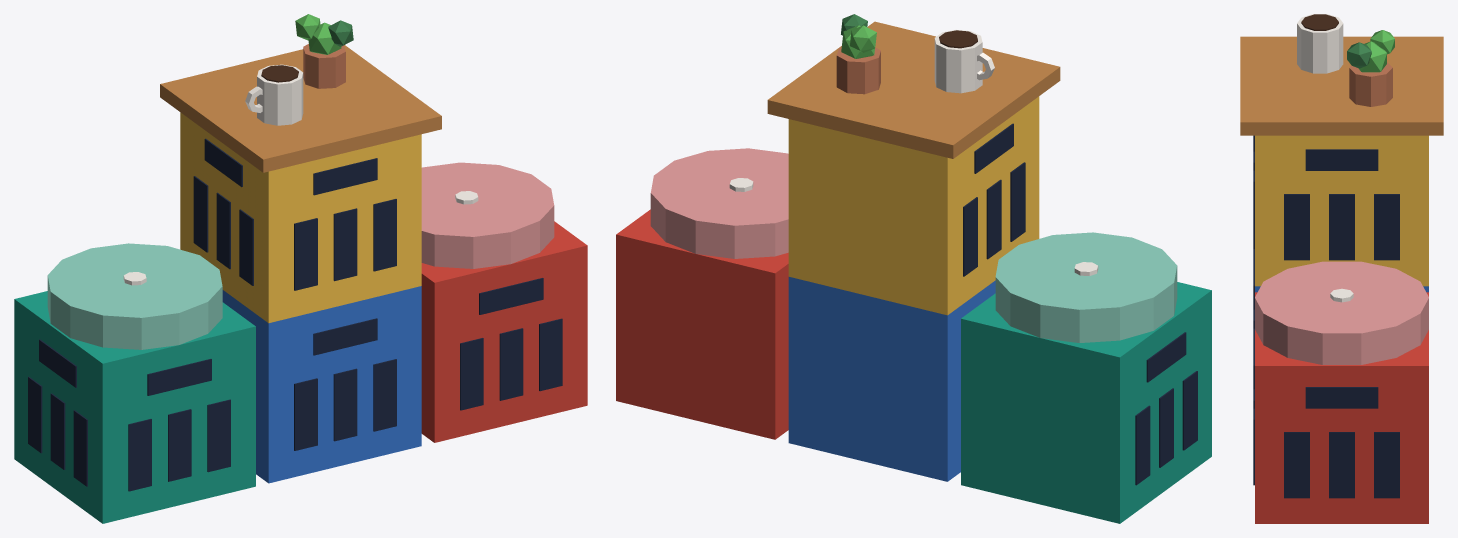
File: CatCafe_Decor_MilkCrateStools.glb
The picture shows the model from 3 angles, left to right: view 1: azimuth 30°, elevation 25°; view 2: azimuth 150°, elevation 25°; view 3: azimuth 270°, elevation 25°; orthographic projection. The views are drawn at different scales.
Parts seen in each view (by area): view 1: CatCafe_Decor_MilkCrateStools; view 2: CatCafe_Decor_MilkCrateStools; view 3: CatCafe_Decor_MilkCrateStools.
Boxes of the visible parts, <box> form: CatCafe_Decor_MilkCrateStools: <box>14,14,587,523</box>; CatCafe_Decor_MilkCrateStools: <box>616,14,1211,523</box>; CatCafe_Decor_MilkCrateStools: <box>1240,14,1443,523</box>.
Size of the model in its own units: 3.82 by 2.97 by 1.4.
1 material, 1 textured.
